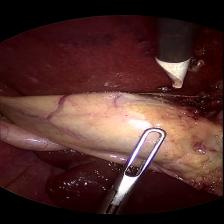Grasper: (87, 126, 177, 212)
Hook: (154, 54, 196, 96)
